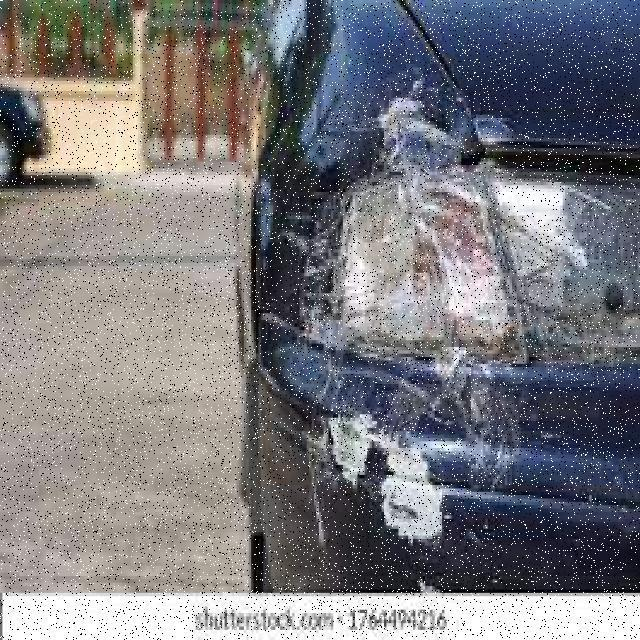Headlight-Damage: (260, 91, 638, 401)
front-bumper-dent: (212, 310, 638, 603)
